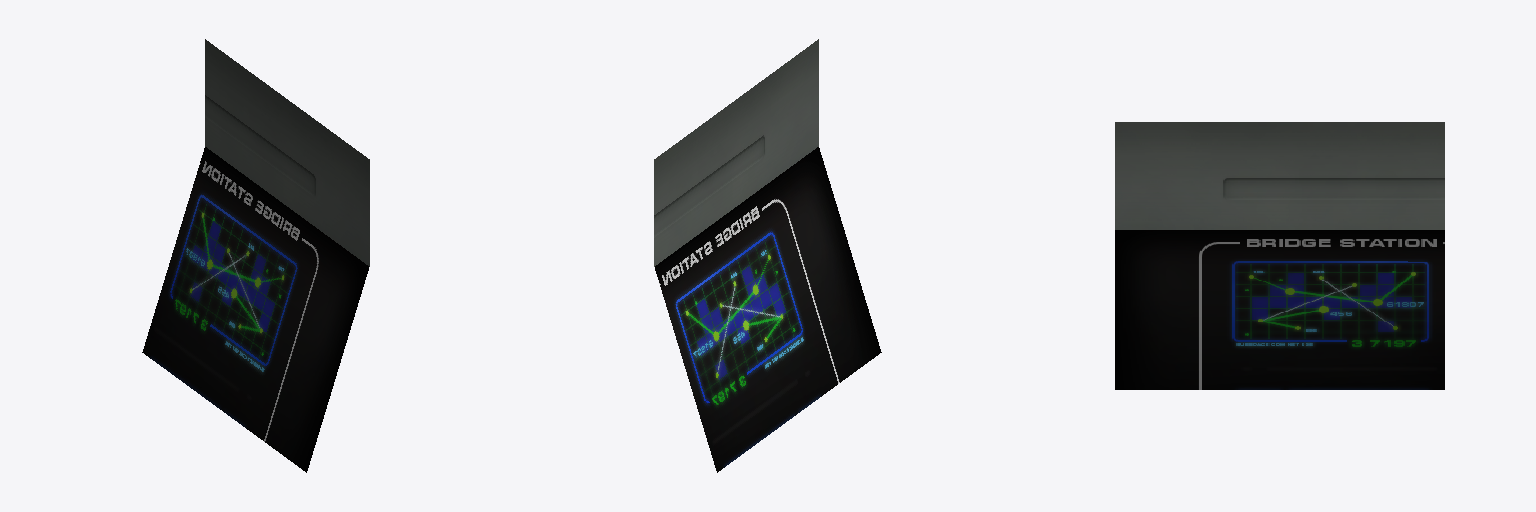
3 renders of one model, left to right at view 1: azimuth 30°, elevation 25°; view 2: azimuth 150°, elevation 25°; view 3: azimuth 270°, elevation 25°, orthographic.
Parts seen in each view (by area): view 1: console_top_Cube.002; view 2: console_top_Cube.002; view 3: console_top_Cube.002.
Boxes of the visible parts, <box> form: console_top_Cube.002: <box>142,39,369,472</box>; console_top_Cube.002: <box>654,39,881,472</box>; console_top_Cube.002: <box>1115,122,1444,389</box>.
Size of the model in its own units: 0.22 by 1 by 1.
2 materials, 2 textured.